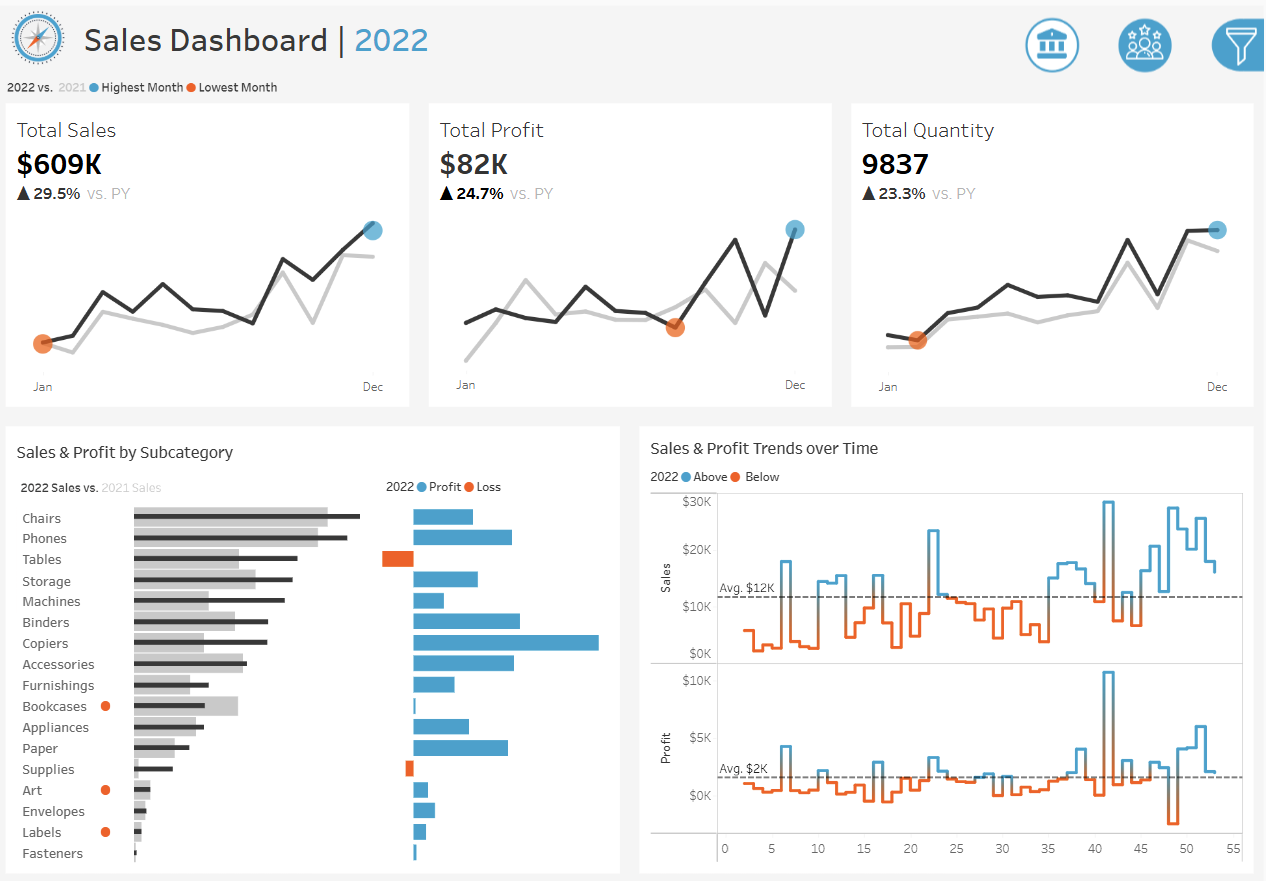

The dashboard page shown, as its layout file describes it:
{"tool":"tableau","page":{"name":"Sales Dashboard","canvas":[1300,900],"ordinal":1},"visuals":[{"type":"image","param":"Image/Icon - Logo.png","box":[0,0,86,65]},{"type":"text","box":[86,0,876,65]},{"type":"dashboard-object","box":[1036,8,95,65]},{"type":"dashboard-object","box":[1131,8,95,65]},{"type":"blank","box":[1055,10,234,83]},{"type":"worksheet","title":"Legend KPI","mark":"Automatic","box":[0,65,1300,35]},{"type":"text","box":[1055,93,234,42]},{"type":"worksheet","title":"KPI Sales","mark":"Line","rows":["Calculation_1069604918127783940"],"cols":["Order Date"],"box":[0,100,434,321]},{"type":"worksheet","title":"KPI Profit","mark":"Line","rows":["Min/Max Sales (copy)_1069604918143459347"],"cols":["Order Date"],"box":[434,100,433,321]},{"type":"worksheet","title":"KPI Quantity","mark":"Line","rows":["Min/Max Profit (copy)_1069604918143688724"],"cols":["Order Date"],"box":[867,100,433,321]},{"type":"parameter","param":"[Parameters].[Parameter 1]","box":[1055,135,234,64]},{"type":"text","box":[1055,199,234,36]},{"type":"filter","title":"KPI Sales","param":"[federated.0o4xeiq0t1o0nq1h46hsh01hq4n8].[none:Category:nk]","box":[1055,235,234,70]},{"type":"filter","title":"KPI Sales","param":"[federated.0o4xeiq0t1o0nq1h46hsh01hq4n8].[none:Sub-Category:nk]","box":[1055,305,234,70]},{"type":"blank","box":[1055,375,234,41]},{"type":"text","box":[1055,416,234,36]},{"type":"text","box":[17,438,616,39]},{"type":"text","box":[667,438,616,41]},{"type":"filter","title":"KPI Sales","param":"[federated.0o4xeiq0t1o0nq1h46hsh01hq4n8].[none:Region:nk]","box":[1055,452,234,70]},{"type":"worksheet","title":"Legend Subcategory","mark":"Automatic","box":[17,477,379,32]},{"type":"text","box":[396,477,237,32]},{"type":"text","box":[667,479,616,33]},{"type":"worksheet","title":"Subcategory Comparison","mark":"Bar","rows":["Sub-Category","Calculation_1069604918184947737"],"cols":["Current Year Sales (copy)_1069604918122307585","Calculation_1069604918121754624","CYear Sales (copy)_1069604918141321229"],"box":[17,509,616,373.9]},{"type":"worksheet","title":"Weekly Trends","mark":"Automatic","rows":["Calculation_1069604918121754624","CYear Sales (copy)_1069604918141321229"],"cols":["Order Date"],"box":[667,512,616,371]},{"type":"filter","title":"KPI Sales","param":"[federated.0o4xeiq0t1o0nq1h46hsh01hq4n8].[none:State:nk]","box":[1055,522,234,70]},{"type":"filter","title":"KPI Sales","param":"[federated.0o4xeiq0t1o0nq1h46hsh01hq4n8].[none:City:nk]","box":[1055,592,234,70]}]}

Visuals, with their boxes in screenshot pixels (x1, y1, x2, y2), scaled from the page's 1300x900 canvas onto the 1266x881 screenshot:
image: x1=0 y1=0 x2=84 y2=64
text: x1=84 y1=0 x2=937 y2=64
dashboard-object: x1=1009 y1=8 x2=1101 y2=71
dashboard-object: x1=1101 y1=8 x2=1194 y2=71
blank: x1=1027 y1=10 x2=1255 y2=91
"Legend KPI" worksheet: x1=0 y1=64 x2=1265 y2=98
text: x1=1027 y1=91 x2=1255 y2=132
"KPI Sales" worksheet (Line marks): x1=0 y1=98 x2=423 y2=412
"KPI Profit" worksheet (Line marks): x1=423 y1=98 x2=844 y2=412
"KPI Quantity" worksheet (Line marks): x1=844 y1=98 x2=1265 y2=412
parameter: x1=1027 y1=132 x2=1255 y2=195
text: x1=1027 y1=195 x2=1255 y2=230
"KPI Sales" filter: x1=1027 y1=230 x2=1255 y2=299
"KPI Sales" filter: x1=1027 y1=299 x2=1255 y2=367
blank: x1=1027 y1=367 x2=1255 y2=407
text: x1=1027 y1=407 x2=1255 y2=442
text: x1=17 y1=429 x2=616 y2=467
text: x1=650 y1=429 x2=1249 y2=469
"KPI Sales" filter: x1=1027 y1=442 x2=1255 y2=511
"Legend Subcategory" worksheet: x1=17 y1=467 x2=386 y2=498
text: x1=386 y1=467 x2=616 y2=498
text: x1=650 y1=469 x2=1249 y2=501
"Subcategory Comparison" worksheet (Bar marks): x1=17 y1=498 x2=616 y2=864
"Weekly Trends" worksheet: x1=650 y1=501 x2=1249 y2=864
"KPI Sales" filter: x1=1027 y1=511 x2=1255 y2=580
"KPI Sales" filter: x1=1027 y1=580 x2=1255 y2=648
